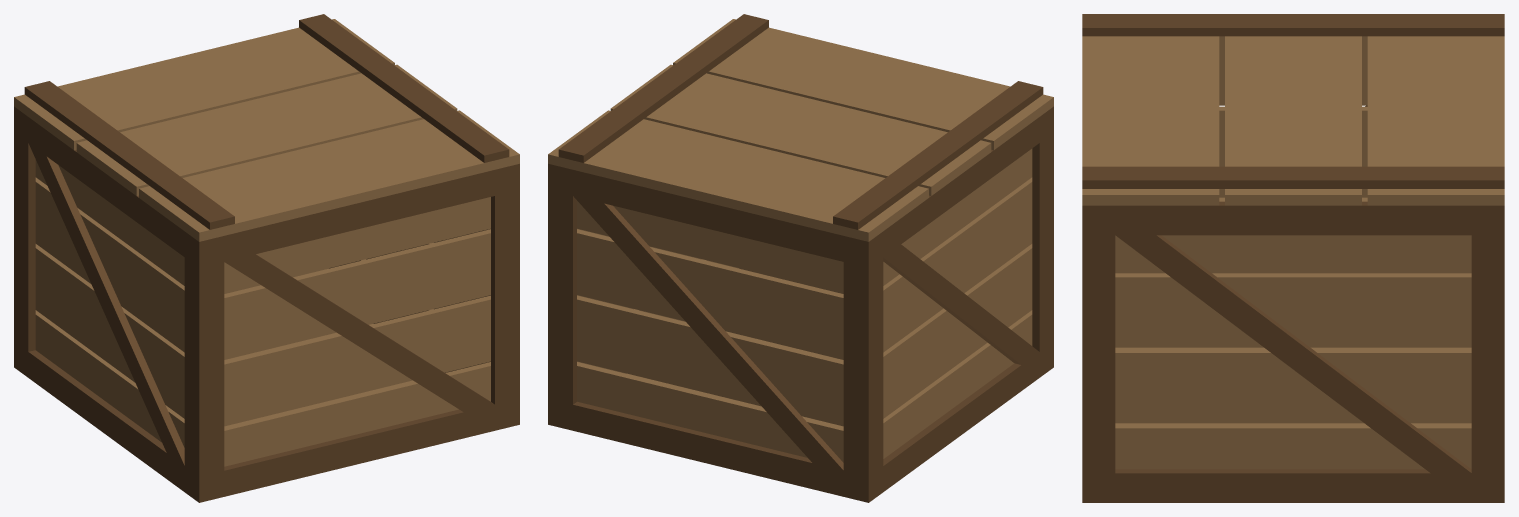
File: crate.glb
3 views of the same model, side by side, from view 1: azimuth 30°, elevation 25°; view 2: azimuth 150°, elevation 25°; view 3: azimuth 270°, elevation 25° (orthographic). The views are drawn at different scales.
Visible parts, largest first — view 1: caisse, couvercle; view 2: caisse, couvercle; view 3: caisse, couvercle.
Part boxes in pixels (x1,y1,x2,y2): caisse: (14, 106, 519, 502); couvercle: (14, 14, 519, 241); caisse: (548, 106, 1053, 502); couvercle: (548, 14, 1053, 241); caisse: (1082, 36, 1504, 502); couvercle: (1082, 14, 1504, 205).
Size of what is drawn, in the model's own units: 0.9 by 0.745 by 0.9.
